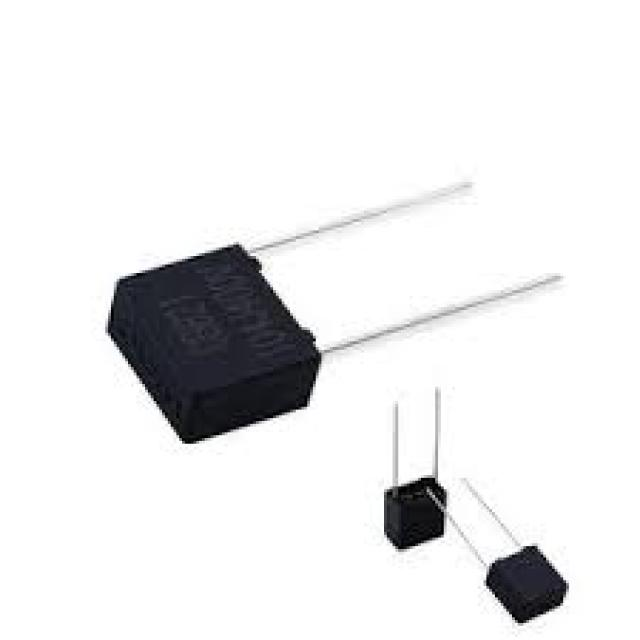Capacitor: (108, 245, 545, 447), (444, 478, 569, 626), (256, 179, 475, 250), (381, 390, 447, 552)
